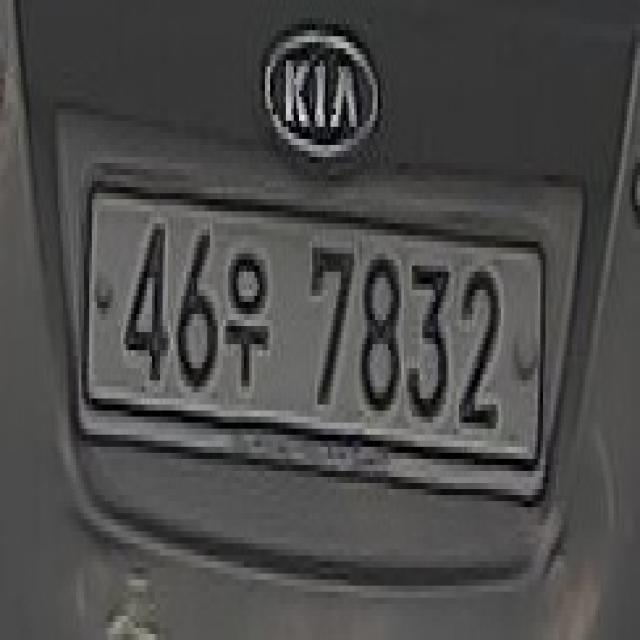2: (456, 256, 502, 451)
3: (411, 248, 452, 444)
4: (121, 214, 173, 402)
6: (175, 214, 219, 410)
7: (299, 226, 356, 436)
8: (358, 241, 404, 437)
license_plate: (66, 150, 561, 507)
u: (224, 228, 276, 413)
